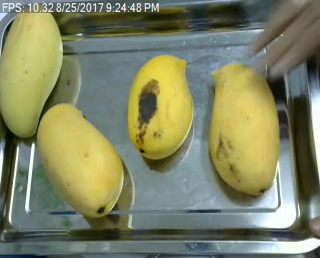Mango: (37, 102, 128, 219), (210, 61, 282, 196), (0, 2, 64, 138), (127, 54, 196, 159)
